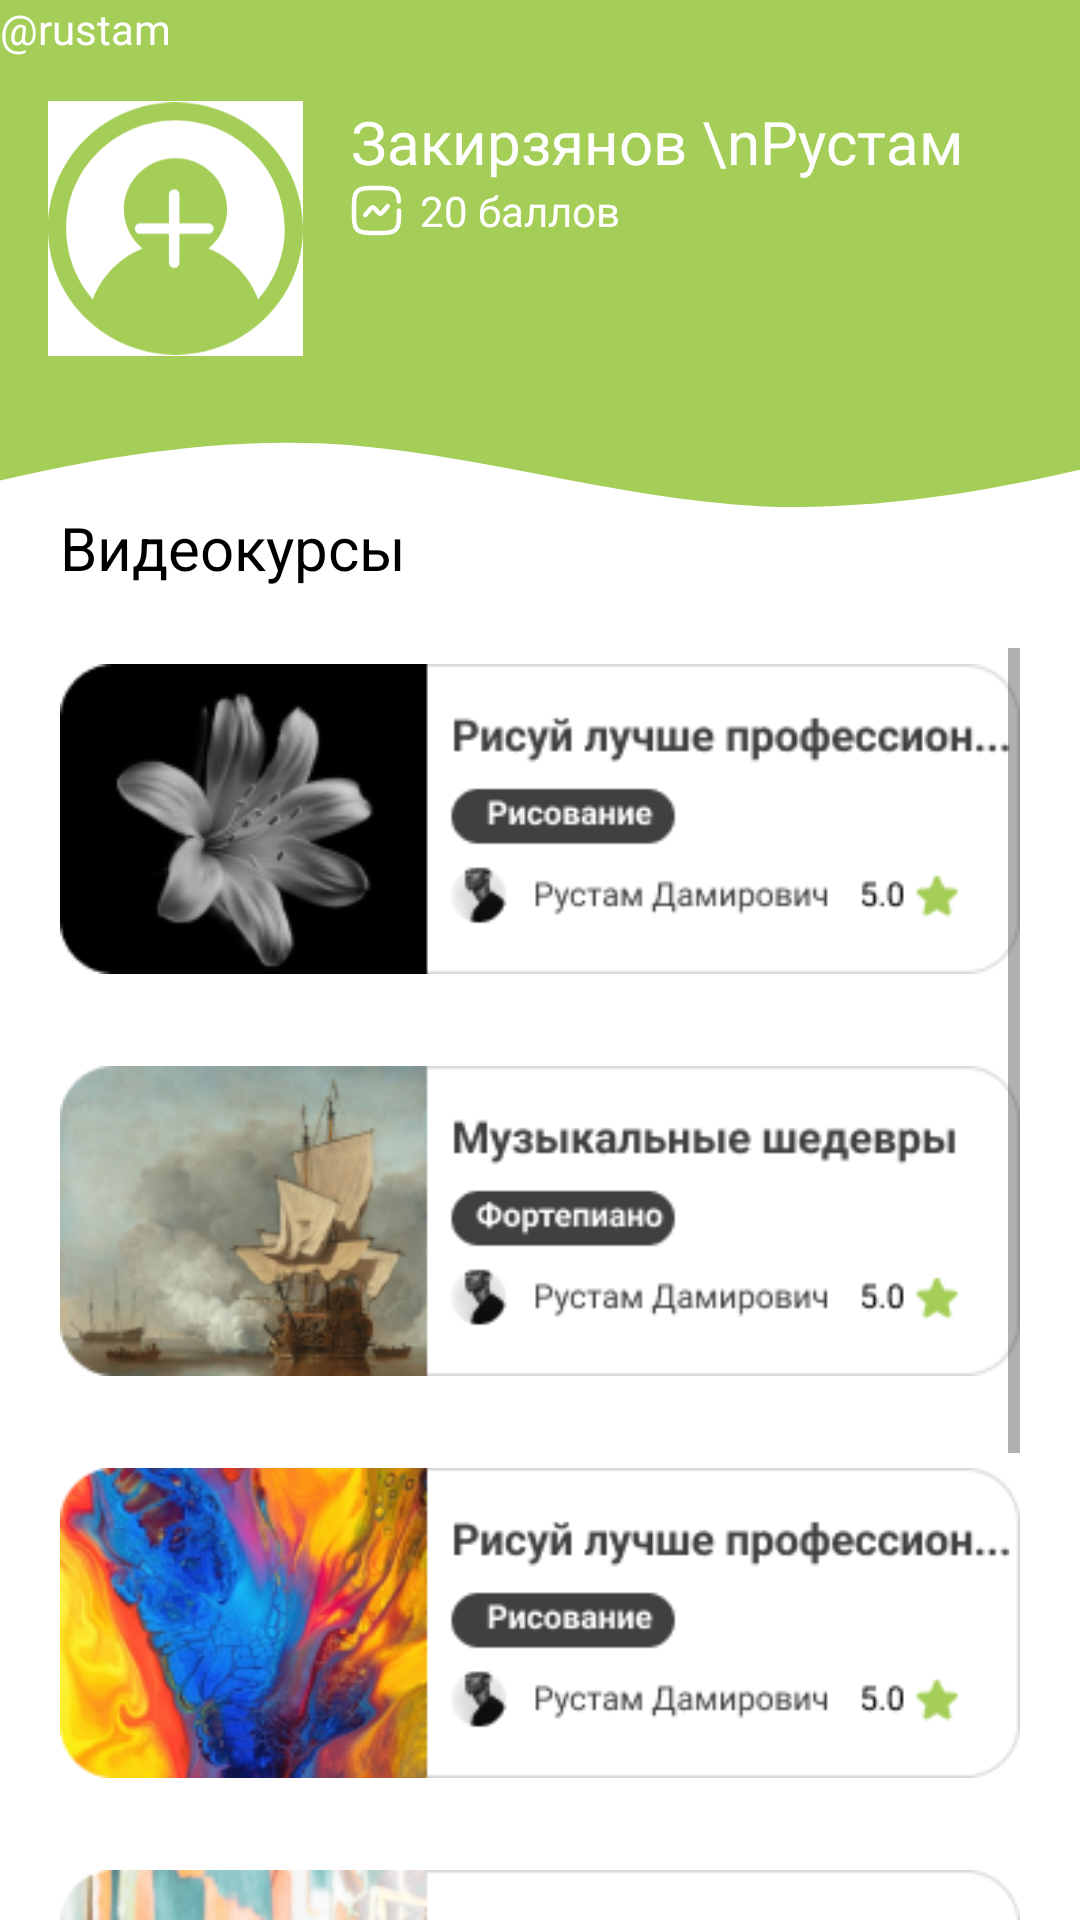

Screen size 1080 × 1920. Icon name, then its center in pixels as (x=x, y=y):
prof: (x=175, y=228)
